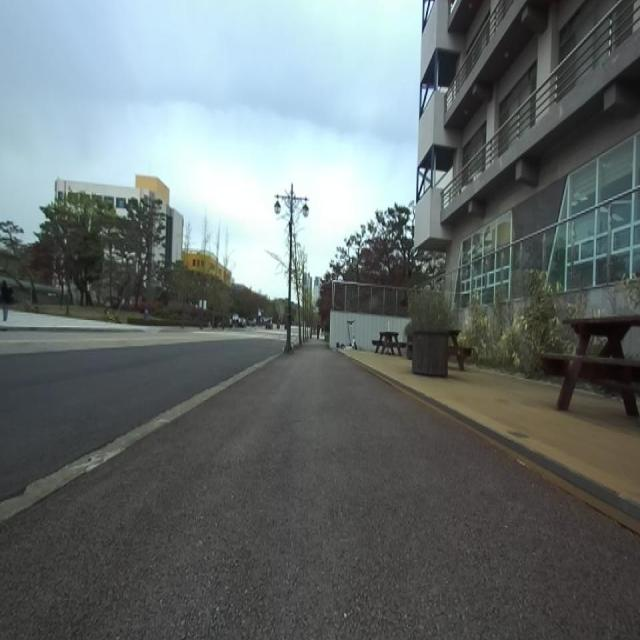sidewalk: (0, 343, 640, 639), (0, 355, 278, 523)
